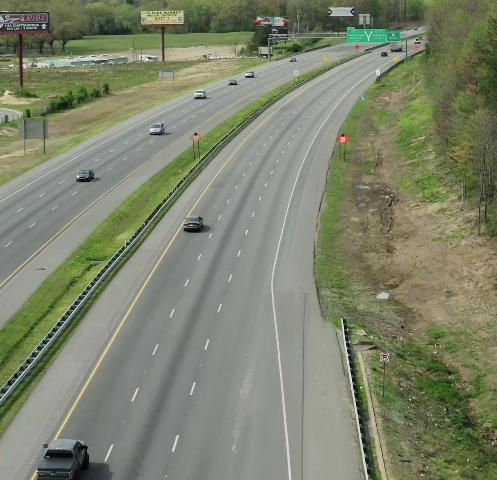car: (183, 214, 204, 232), (75, 167, 95, 184), (150, 122, 164, 138), (193, 89, 208, 98), (228, 78, 238, 86), (245, 71, 254, 78), (415, 38, 421, 44), (289, 58, 297, 62), (381, 52, 388, 56), (414, 27, 418, 30)
pickup-truck: (36, 437, 92, 480)
truck: (390, 38, 402, 53)
